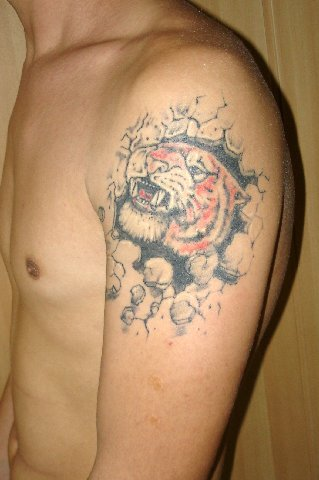tatu5_tigr: (120, 140, 252, 260)
